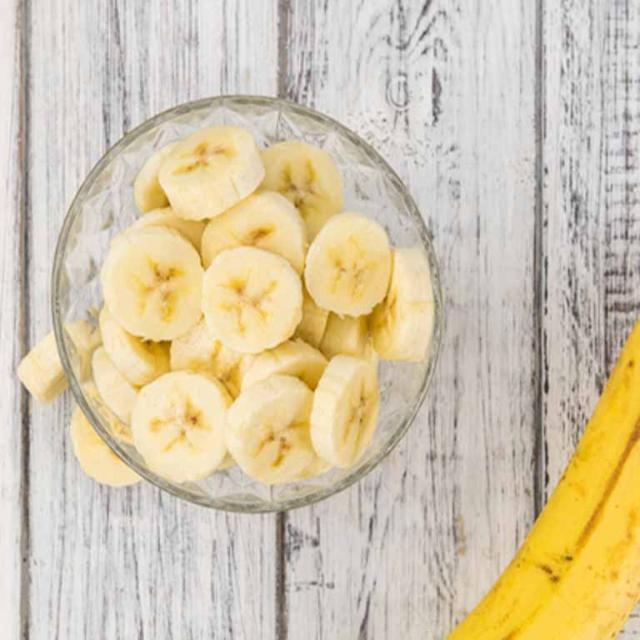platano: (75, 126, 424, 488)
